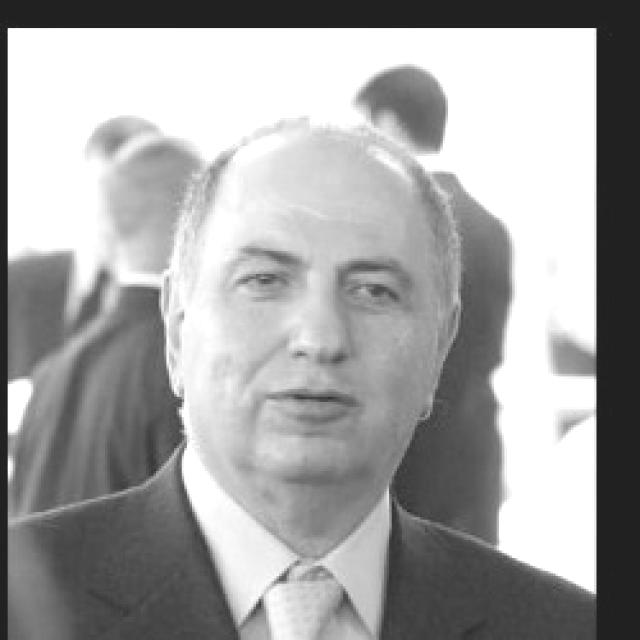real: (186, 139, 443, 476), (223, 254, 410, 320)
